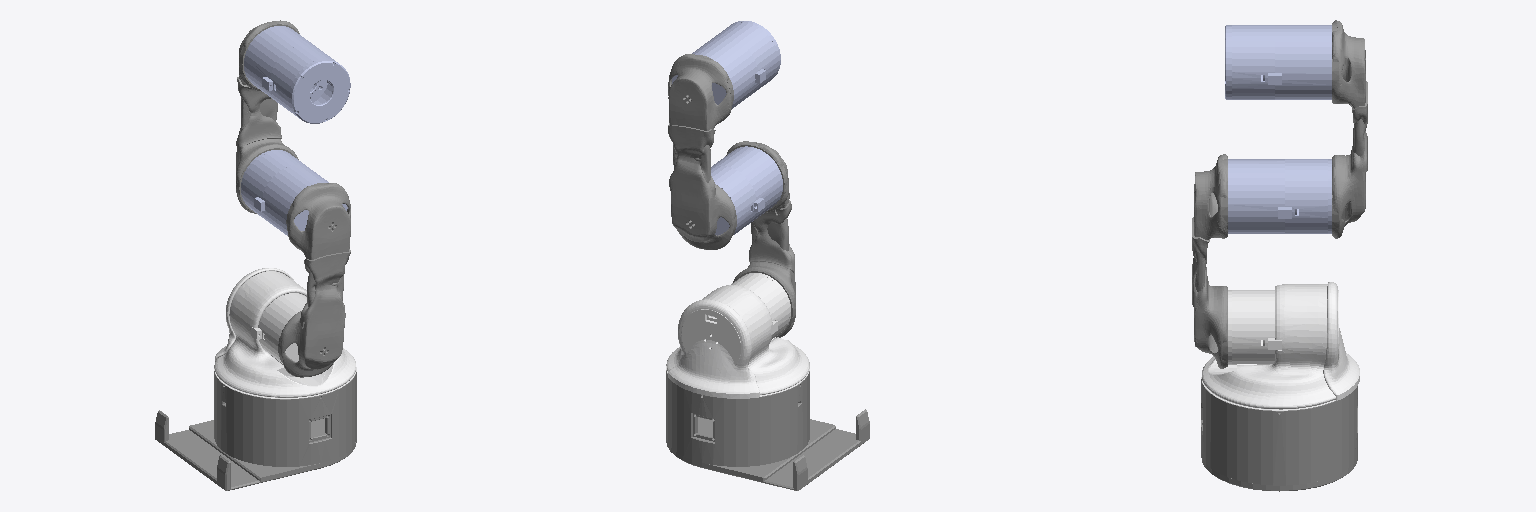
URDF robot description (three_axis_bot):
<?xml version="1.0" encoding="utf-8"?>
<robot xmlns:xacro="https://www.ros.org/wiki/xacro" name="three_axis_bot">
 
  <link name="world"/>
 
  <link name="base_link">
    <inertial>
      <origin xyz="-0.011554 -6.139E-05 0.056675" rpy="0 0 0" />
      <mass value="2.015" />
      <inertia ixx="0.0080998" ixy="-5.988E-08" ixz="8.5967E-05" iyy="0.0092524" iyz="-9.6945E-07" izz="0.014549" />
    </inertial>

    <visual>
      <origin xyz="0 0 0" rpy="0 0 0" />

      <geometry>
        <mesh filename="package://arm_project/meshes/base_link.STL" />
      </geometry>

      <material name="medium_grey">
        <color rgba="0.62745 0.62745 0.62745 1" />
      </material>
    </visual>
    
    <collision>
      <origin xyz="0 0 0" rpy="0 0 0" />

      <geometry>
        <mesh filename="package://arm_project/meshes/base_link.STL" />
      </geometry>

    </collision>

  </link>

  <joint name="base_joint" type="fixed">
        <parent link="world"/>
        <child link="base_link"/>
        <origin xyz="0.0 0.0 0.0" rpy="0 0 0"/>
  </joint>

  <link name="rotating_base_link">
    <inertial>
      <origin xyz="-5.9057E-05 -0.069841 -0.035318" rpy="0 0 0" />
      <mass value="2.16" />
      <inertia ixx="0.0050965" ixy="4.203E-06" ixz="-2.4762E-06" iyy="0.0052669" iyz="-0.00063764" izz="0.0064535" />
    </inertial>

    <visual>
      <origin xyz="0 0 0" rpy="0 0 0" />

      <geometry>
        <mesh filename="package://arm_project/meshes/link_1.STL" />
      </geometry>

      <material name="light_grey">
        <color rgba="0.96078 0.96078 0.96471 1" />
      </material>
    </visual>

    <collision>
      <origin xyz="0 0 0" rpy="0 0 0" />

      <geometry>
        <mesh filename="package://arm_project/meshes/link_1.STL" />
      </geometry>

    </collision>

  </link>

  <joint name="rotating_base_joint" type="continuous">
    <origin xyz="0 0.0825 0.2035" rpy="0 0 0" />
    <parent link="base_link" />
    <child link="rotating_base_link" />
    <axis xyz="0 0 1" />
  </joint>

  <link name="actuator_1_link">
    <inertial>
      <origin xyz="0.007401 -0.1848 0.10588" rpy="0 0 0" />
      <mass value="0.18" />
      <inertia ixx="0.0041197" ixy="-1.4871E-07" ixz="-0.00026364" iyy="0.0043468" iyz="7.2857E-06" izz="0.00038839" />
    </inertial>

    <visual>
      <origin xyz="0 0 0" rpy="0 0 0" />

      <geometry>
        <mesh filename="package://arm_project/meshes/link_2.STL" />
      </geometry>

      <material name="medium_grey">
        <color rgba="0.62745 0.62745 0.62745 1" />
      </material>
    </visual>

    <collision>
      <origin xyz="0 0 0" rpy="0 0 0" />

      <geometry>
        <mesh filename="package://arm_project/meshes/link_2.STL" />
      </geometry>
    </collision>

  </link>

  <joint name="actuator_1_joint" type="revolute">
    <origin xyz="0 0 0" rpy="0 0 0" />
    <parent link="rotating_base_link" />
    <child link="actuator_1_link" />
    <axis xyz="0 -1 0" />
    <limit lower="-1.9199" upper="1.9199" effort="109.35" velocity="1.3" />
  </joint>

  <link name="actuator_2_mid_link">
    <inertial>
      <origin xyz="0.014659 -0.08821 0.20896" rpy="0 0 0" />
      <mass value="1.72" />
      <inertia ixx="0.00067739" ixy="1.5844E-15" ixz="2.7864E-17" iyy="0.00090551" iyz="-4.25E-06" izz="0.0006623" />
    </inertial>

    <visual>
      <origin xyz="0 0 0" rpy="0 0 0" />

      <geometry>
        <mesh filename="package://arm_project/meshes/link_3.STL" />
      </geometry>
      
      <material name="light_blue">
        <color rgba="0.79216 0.81961 0.93333 1" />
      </material>
    </visual>

    <collision>
      <origin xyz="0 0 0" rpy="0 0 0" />
      <geometry>
        <mesh filename="package://arm_project/meshes/link_3.STL" />
      </geometry>
    </collision>

  </link>

  <joint name="actuator_2_mid_joint" type="fixed">
    <origin xyz="0 0 0" rpy="0 0 0" />
    <parent link="actuator_1_link" />
    <child link="actuator_2_mid_link" />
    <axis xyz="0 0 0" />
  </joint>

  <link name="actuator_2_link">
    <inertial>
      <origin
        xyz="0.0031088 0.1801 0.10635"
        rpy="0 0 0" />
      <mass
        value="0.18" />
      <inertia
        ixx="0.0041359"
        ixy="-8.4085E-07"
        ixz="-9.7495E-05"
        iyy="0.0043469"
        iyz="-7.2278E-06"
        izz="0.0003724" />
    </inertial>

    <visual>
      <origin
        xyz="0 0 0"
        rpy="0 0 0" />
      <geometry>
        <mesh
          filename="package://arm_project/meshes/link_4.STL" />
      </geometry>
      <material
        name="medium_grey">
        <color
          rgba="0.62745 0.62745 0.62745 1" />
      </material>
    </visual>

    <collision>
      <origin
        xyz="0 0 0"
        rpy="0 0 0" />
      <geometry>
        <mesh
          filename="package://arm_project/meshes/link_4.STL" />
      </geometry>
    </collision>
  </link>

  <joint name="actuator_2_joint"
         type="revolute">
    <origin
      xyz="0.01434 -0.1597 0.20924"
      rpy="0 0 0" />
    <parent
      link="actuator_2_mid_link" />
    <child
      link="actuator_2_link" />
    <axis
      xyz="0 1 0" />
    <limit
      lower="-1.9199"
      upper="1.9199"
      effort="109.35"
      velocity="1.3" />
  </joint>

  <link name="actuator_3_link">
    <inertial>
      <origin
        xyz="0.005822 0.08351 0.2107"
        rpy="0 0 0" />
      <mass
        value="1.72" />
      <inertia
        ixx="0.00067739"
        ixy="1.0496E-15"
        ixz="2.64E-17"
        iyy="0.00090551"
        iyz="-4.25E-06"
        izz="0.0006623" />
    </inertial>

    <visual>
      <origin
        xyz="0 0 0"
        rpy="0 0 0" />
      <geometry>
        <mesh
          filename="package://arm_project/meshes/link_5.STL" />
      </geometry>
      <material
        name="light_blue">
        <color
          rgba="0.79216 0.81961 0.93333 1" />
      </material>
    </visual>

    <collision>
      <origin
        xyz="0 0 0"
        rpy="0 0 0" />
      <geometry>
        <mesh
          filename="package://arm_project/meshes/link_5.STL" />
      </geometry>
    </collision>
  </link>

  <joint name="actuator_3_joint" type="fixed">
    <origin
      xyz="0 0 0"
      rpy="0 0 0" />
    <parent
      link="actuator_2_link" />
    <child
      link="actuator_3_link" />
    <axis
      xyz="0 0 0" />
  </joint>

  <gazebo reference="rotating_base_link">
    <selfCollide>true</selfCollide>
    <material>Gazebo/Blue</material>
  </gazebo>

  <gazebo reference="actuator_1_link">
    <selfCollide>true</selfCollide>
    <material>Gazebo/Orange</material>
  </gazebo>

  <gazebo reference="actuator_2_link">
    <selfCollide>true</selfCollide>
    <material>Gazebo/Green</material>
  </gazebo>

  <gazebo>
      <plugin name="gazebo_ros2_control" filename="libgazebo_ros2_control.so">
      <robotNamespace>/</robotNamespace>
      </plugin>
  </gazebo>

  <gazebo>
      <plugin name="gazebo_ros_joint_state_publisher" filename="libgazebo_ros_joint_state_publisher.so">
          <update_rate>20</update_rate>
          <joint_name>rotating_base_joint</joint_name>
          <joint_name>actuator_1_joint</joint_name>
          <joint_name>actuator_2_joint</joint_name>
      </plugin>
  </gazebo>

</robot>

--- Render facts (derived) ---
Views: 3 orthographic renders of the robot side by side, from view 1: azimuth 30°, elevation 25°; view 2: azimuth 150°, elevation 25°; view 3: azimuth 270°, elevation 25°.
Robot: three_axis_bot — 7 links, 6 joints (2 revolute, 1 continuous, 3 fixed); root link world; default pose: every joint at zero.
Links seen in each view (by area): view 1: base_link, rotating_base_link, actuator_1_link, actuator_3_link, actuator_2_mid_link, actuator_2_link; view 2: base_link, rotating_base_link, actuator_2_link, actuator_3_link, actuator_1_link, actuator_2_mid_link; view 3: rotating_base_link, base_link, actuator_3_link, actuator_2_mid_link, actuator_2_link, actuator_1_link.
Boxes of the visible links, <box> form: base_link: <box>155,371,356,490</box>; rotating_base_link: <box>214,268,356,398</box>; actuator_1_link: <box>278,183,350,377</box>; actuator_3_link: <box>244,26,350,123</box>; actuator_2_mid_link: <box>241,150,347,235</box>; actuator_2_link: <box>236,20,299,213</box>; base_link: <box>666,370,869,490</box>; rotating_base_link: <box>666,273,809,398</box>; actuator_2_link: <box>668,54,736,249</box>; actuator_3_link: <box>672,21,780,108</box>; actuator_1_link: <box>726,141,795,337</box>; actuator_2_mid_link: <box>711,146,782,235</box>; rotating_base_link: <box>1201,282,1359,410</box>; base_link: <box>1201,379,1357,491</box>; actuator_3_link: <box>1225,25,1331,99</box>; actuator_2_mid_link: <box>1228,159,1331,233</box>; actuator_2_link: <box>1332,20,1367,238</box>; actuator_1_link: <box>1192,154,1227,368</box>.
Size in the robot's own frame: 0.28 by 0.2467 by 0.6781 metres.
Meshes: 6 distinct files referenced, 6 mesh visuals loaded (6 binary STL).